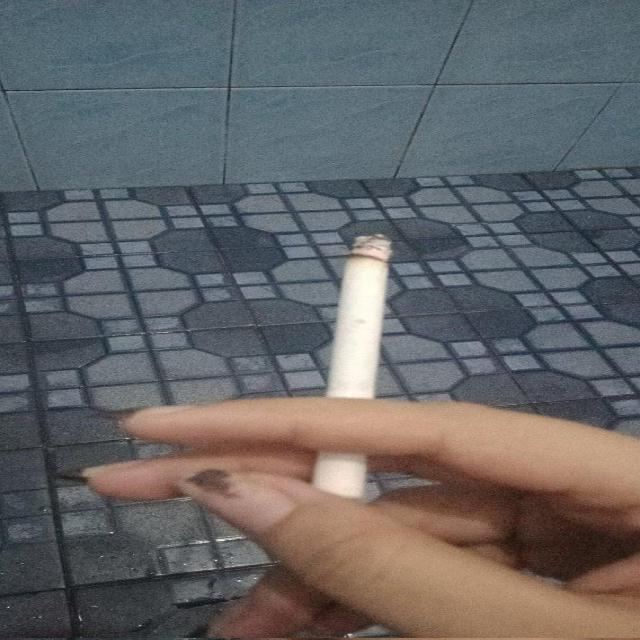rokok: (310, 231, 402, 511)
